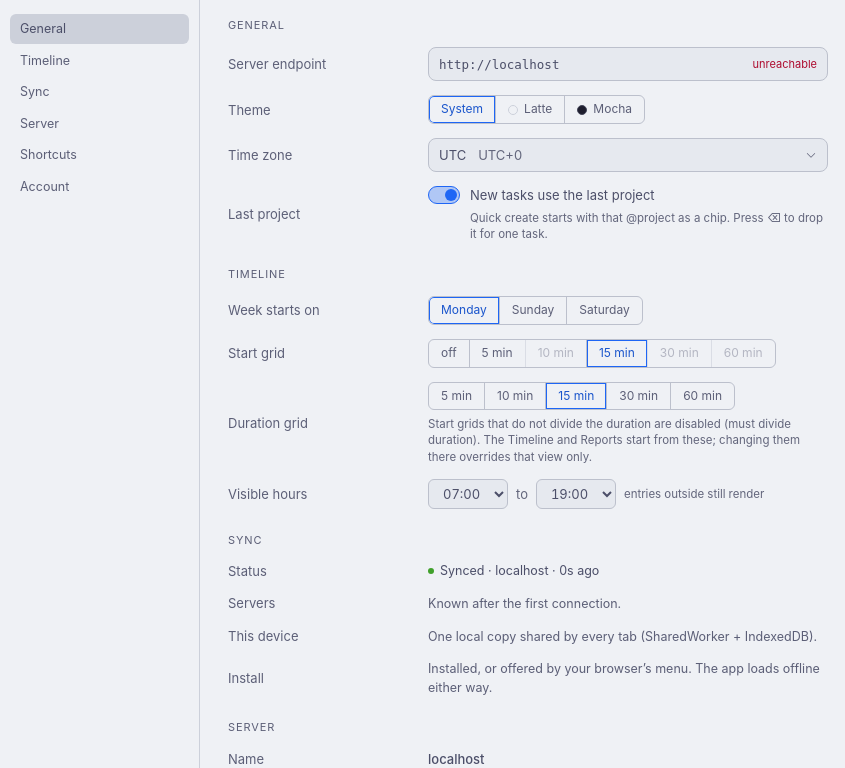
Test case: grid settings › default to 15/15 with non-dividing starts disabled, and fall back on duration change
Expected: the 1st radio button labelled "15 min" is checked, left=586, top=340, right=647, bottom=367
Expected: the 2nd radio button labelled "15 min" is checked, left=545, top=382, right=606, bottom=409
Click the 2nd radio button labelled "10 min". click: (515, 396)
box: left=484, top=382, right=545, bottom=409
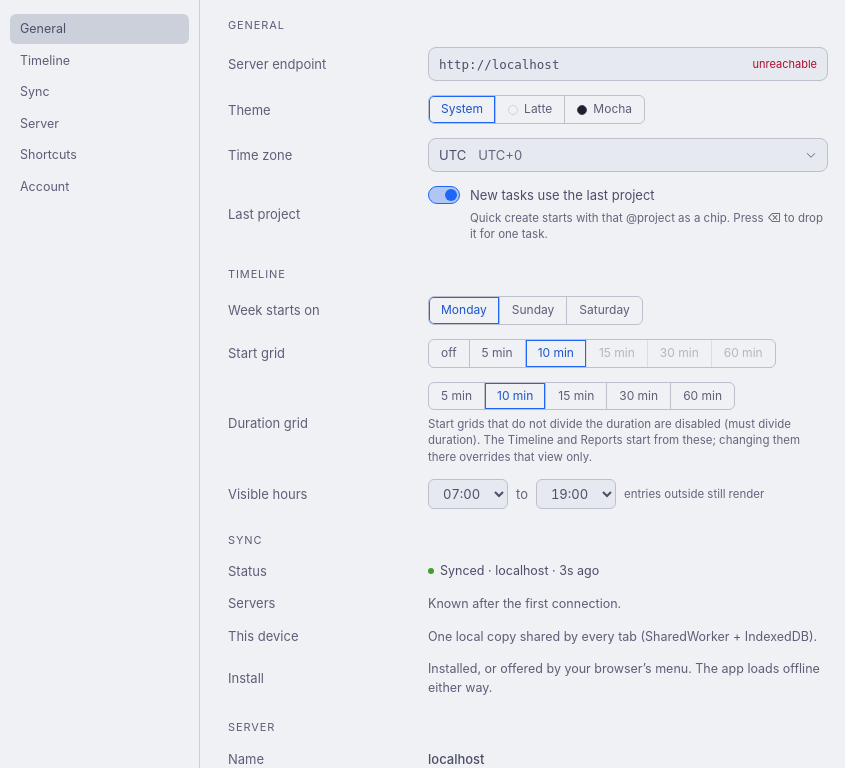
Now the 1st radio button labelled "10 min" is checked, box left=525, top=340, right=586, bottom=367
